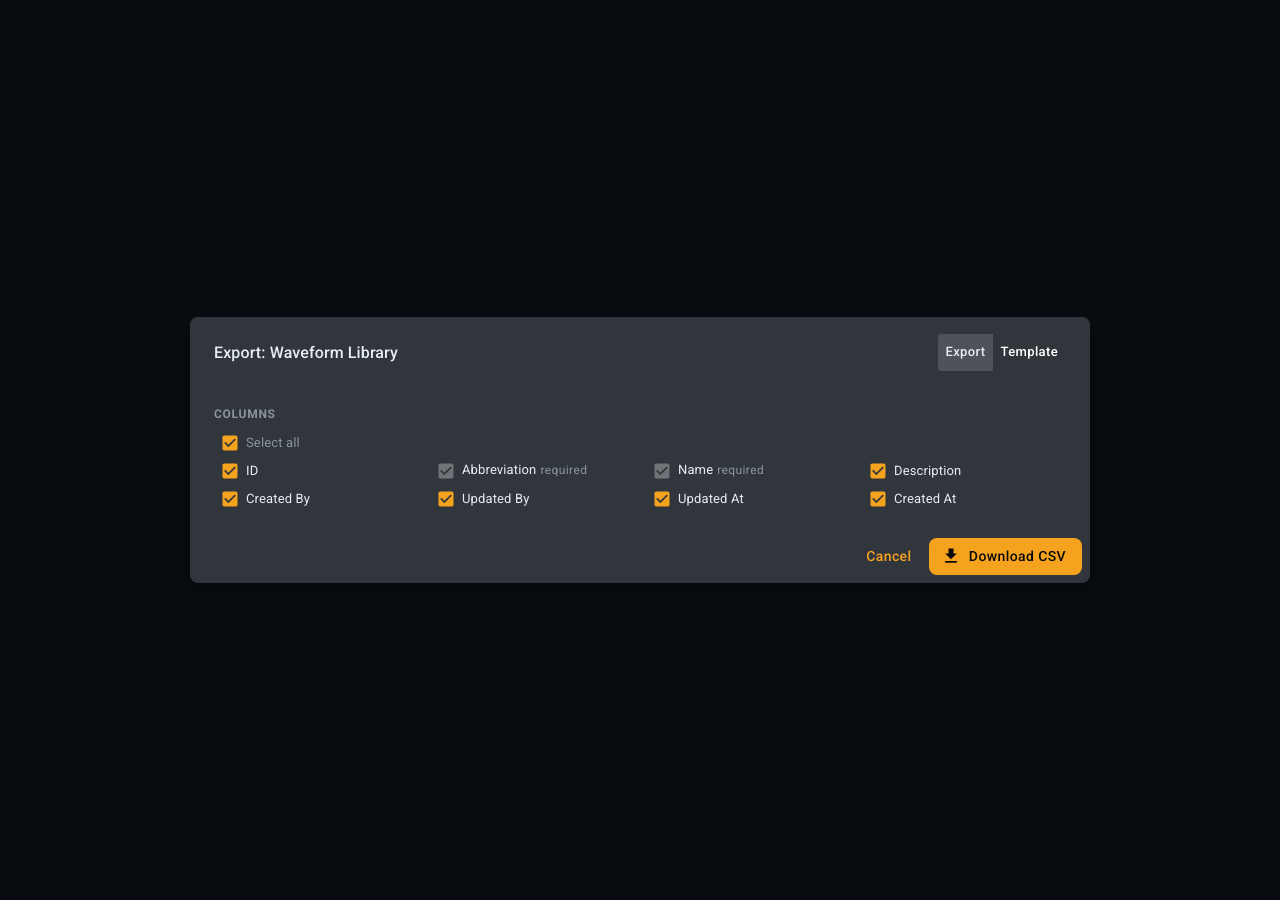
Test: CsvDialog › surfaces the server message and stays open on failure
The image size is (1280, 900).
Click the button "Download CSV" at (1005, 556), box [929,538,1082,575]
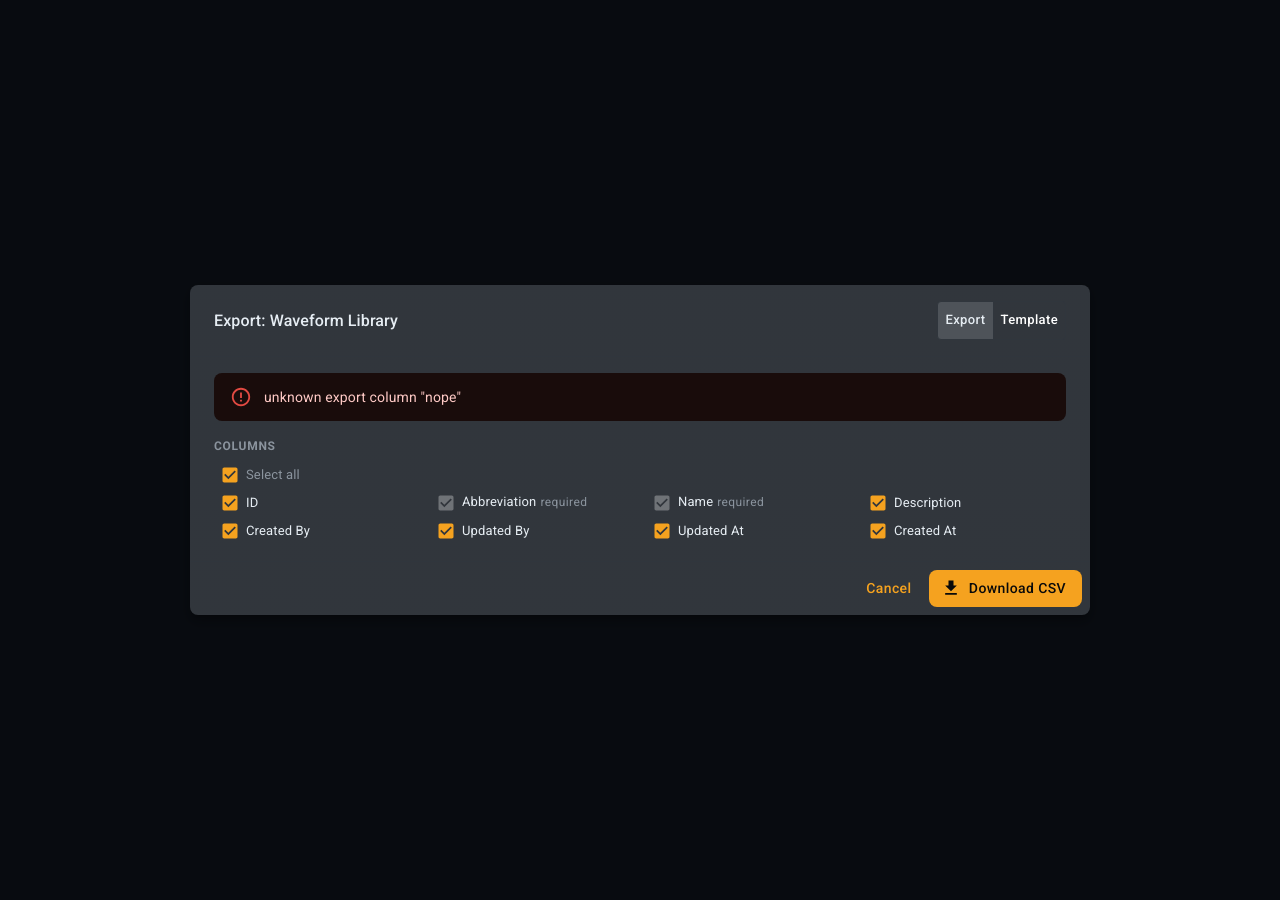
Check: the text "unknown export column \"nope\"" is shown, box [264,389,461,405]
